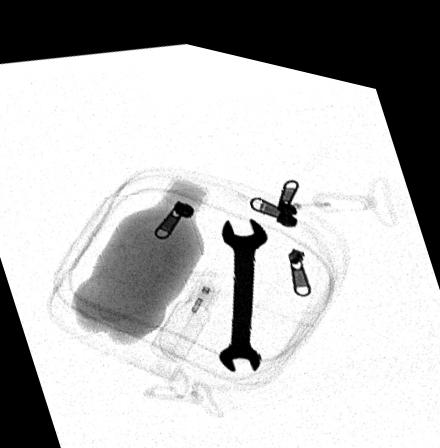Wrench: (214, 203, 267, 364)
